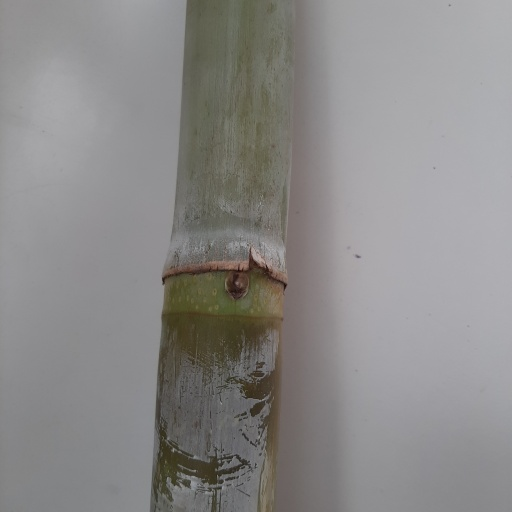Bud: (225, 269, 251, 304)
